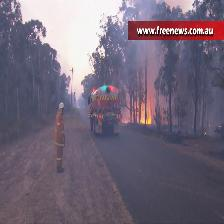fire: (120, 89, 163, 129)
